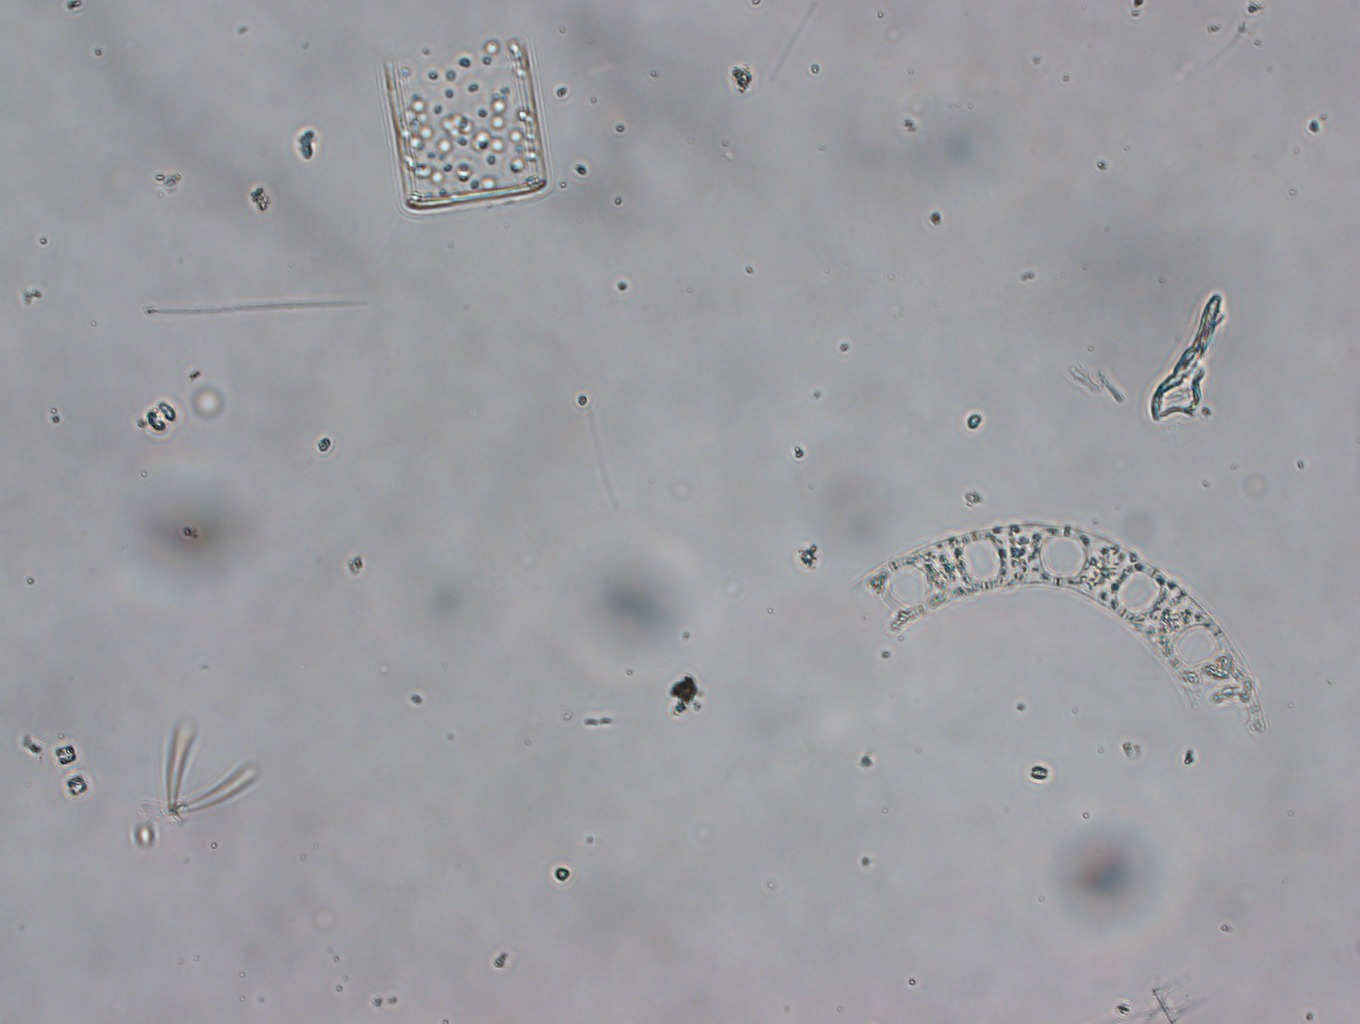eucampia: (851, 523, 1265, 742)
guinardia flaccida: (381, 33, 547, 209)
